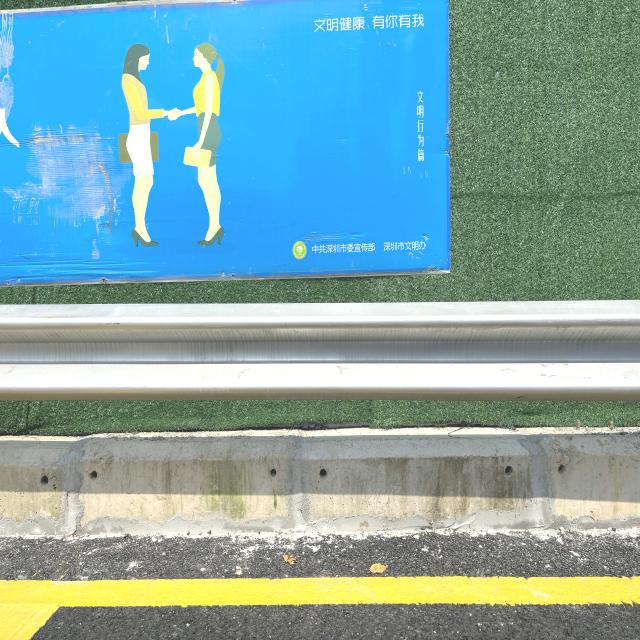Guard rail: (0, 300, 640, 400)
Tree: (34, 603, 640, 638)
